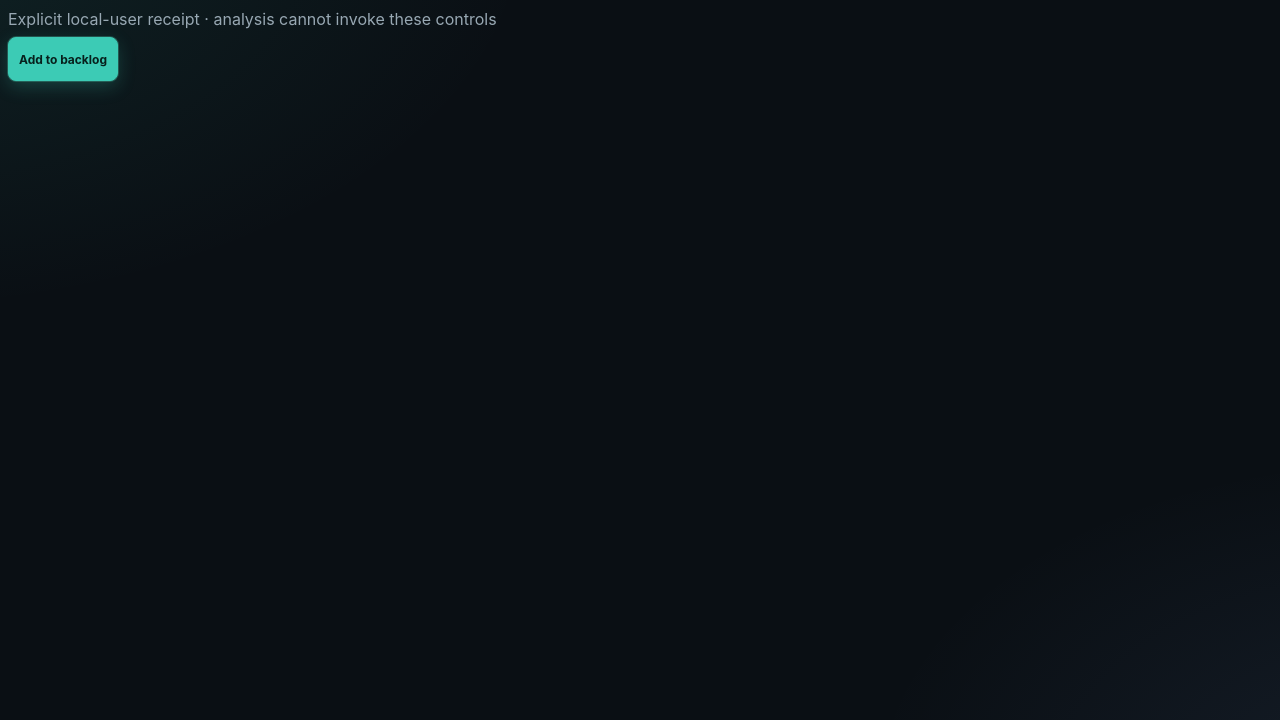
Test: TaskLifecycleControls authority capture › dismisses an unconfirmed command when the authoritative head changes
Later steps or results of the test are not shown.
Click the button "Add to backlog".
click(63, 59)  # box 8,37 -> 118,81
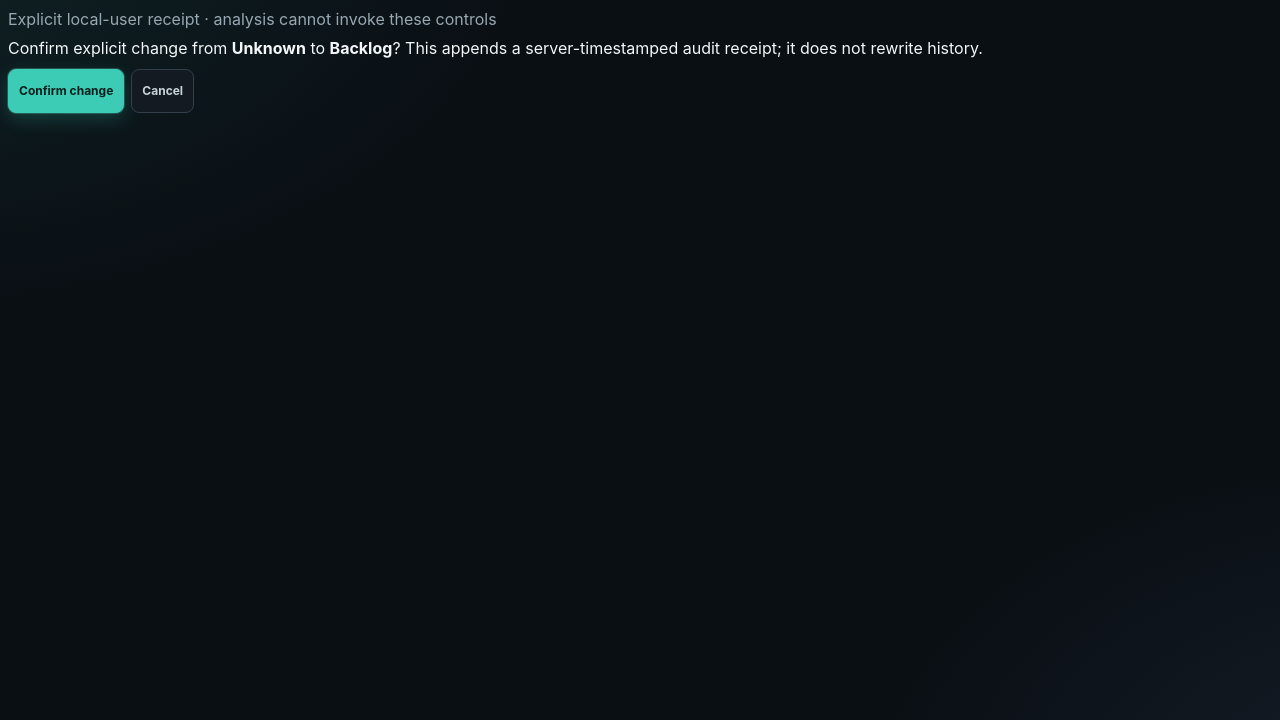
Check: the element named "Confirm lifecycle command" is shown, box 8,38 -> 983,113
